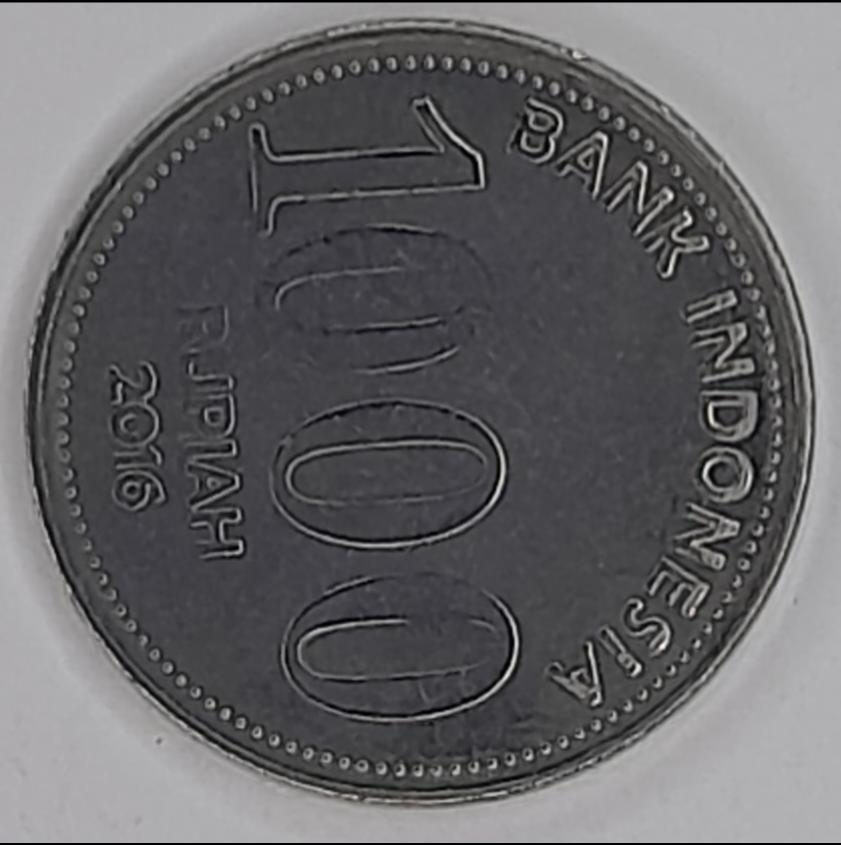coin_1000_e2016: (14, 17, 830, 845)
